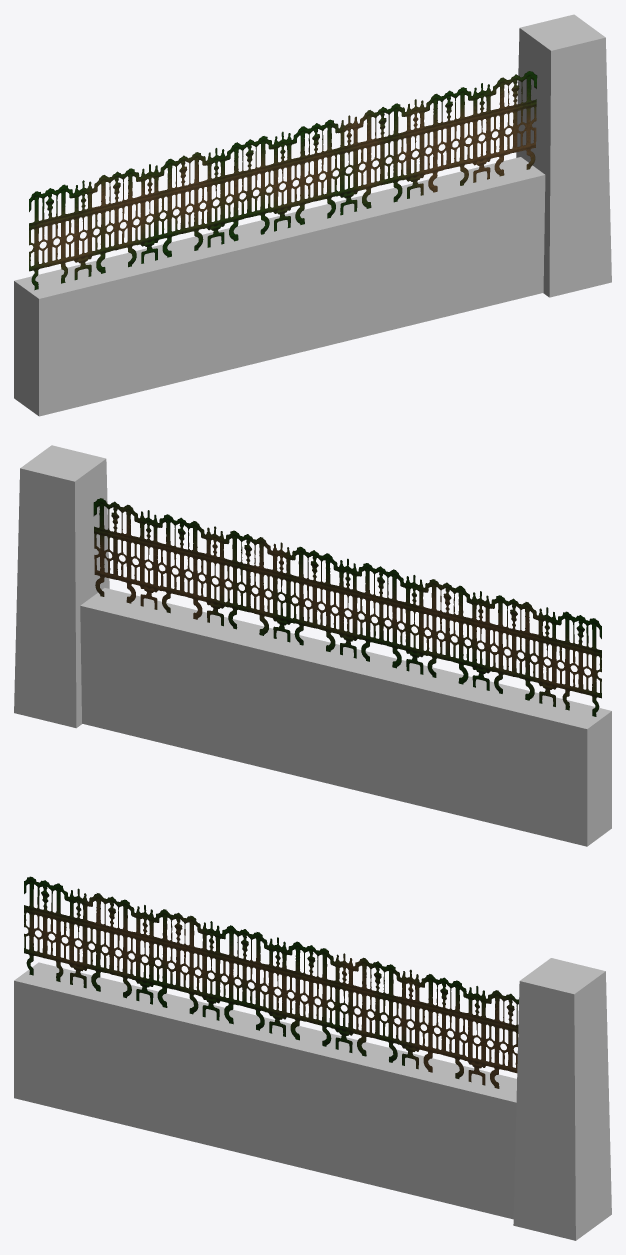
Rendered from wallsegment.fbx.
3 views of the same model, one above another, from view 1: azimuth 30°, elevation 25°; view 2: azimuth 150°, elevation 25°; view 3: azimuth 330°, elevation 25° (orthographic).
Visible parts, largest first — view 1: Mesh Object; view 2: Mesh Object; view 3: Mesh Object.
Part boxes in pixels (x1,y1,x2,y2): Mesh Object: (14, 14, 611, 416); Mesh Object: (14, 445, 611, 846); Mesh Object: (14, 876, 611, 1240).
Bounding box in the file's own units: 9.1 × 3.74 × 1.
